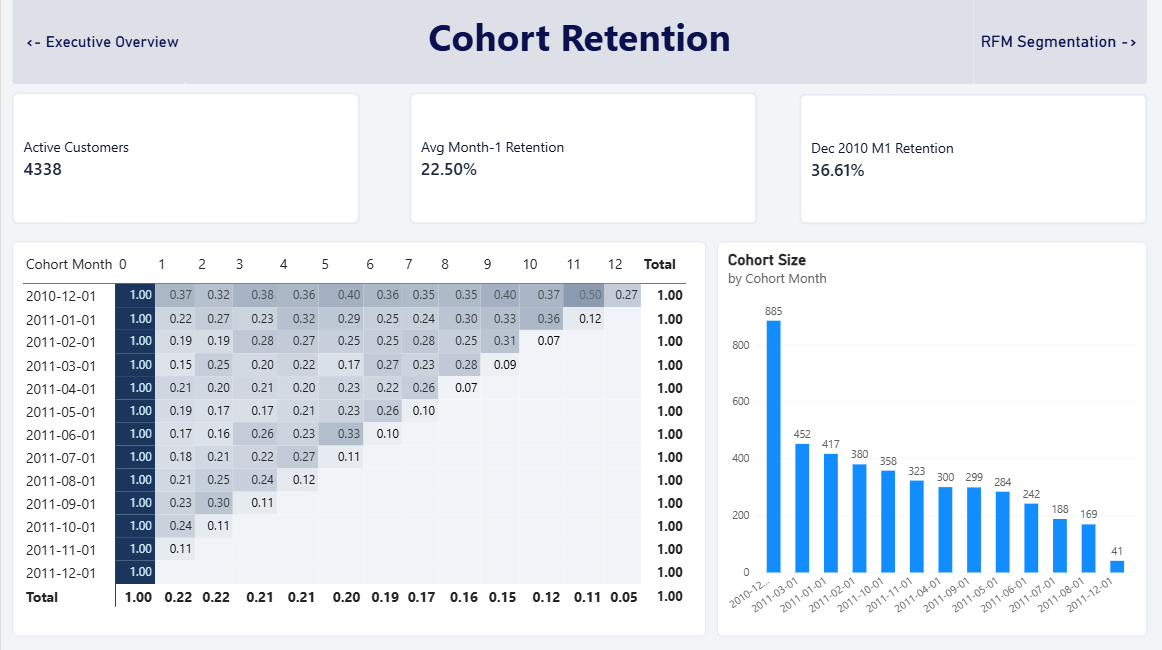

Layout of this report page (visuals, bound fields, positions):
{"tool":"powerbi","page":{"name":"Cohort Retention","canvas":[1920,1080],"ordinal":1},"visuals":[{"type":"cardVisual","fields":{"Data":["measures (2).Active Customers"]},"box":[18.5,154.4,572.2,216.1],"z":0},{"type":"cardVisual","fields":{"Data":["measures (2).Month 1 Avg Retention"]},"box":[673.1,154.4,572.2,216.1],"z":1000},{"type":"cardVisual","fields":{"Data":["measures (2).Dec 2010 M1 Retention"]},"box":[1315.3,156.4,572.2,214.1],"z":2000},{"type":"pivotTable","fields":{"Columns":["rfm_cohort_project v_clean_retail_2011.Cohort Index"],"Rows":["rfm_cohort_project v_clean_retail_2011.Cohort Month"],"Values":["measures (2).Retention Rate %"]},"box":[18.5,399.3,1142.4,650.4],"z":3000},{"type":"clusteredColumnChart","fields":{"Category":["rfm_cohort_project v_clean_retail_2011.Cohort Month"],"Y":["measures (2).Cohort Size"]},"box":[1179.4,399.3,708.1,650.4],"z":4000},{"type":"actionButton","title":"Cohort Retention","box":[304.6,0,1296.7,140],"z":4001},{"type":"actionButton","title":"<- Executive Overview","box":[18.5,0,286.1,140],"z":4002},{"type":"actionButton","title":"RFM Segmentation ->","box":[1601.4,0,286.1,140],"z":4003}]}

Visuals, with their boxes in screenshot pixels (x1, y1, x2, y2), scaled from the page's 1920x1080 canvas onto the 1162x650 screenshot:
cardVisual - measures (2).Active Customers: crop(11, 93, 357, 223)
cardVisual - measures (2).Month 1 Avg Retention: crop(407, 93, 754, 223)
cardVisual - measures (2).Dec 2010 M1 Retention: crop(796, 94, 1142, 223)
pivotTable - rfm_cohort_project v_clean_retail_2011.Cohort Index x rfm_cohort_project v_clean_retail_2011.Cohort Month: crop(11, 240, 703, 632)
clusteredColumnChart - rfm_cohort_project v_clean_retail_2011.Cohort Month x measures (2).Cohort Size: crop(714, 240, 1142, 632)
"Cohort Retention" actionButton: crop(184, 0, 969, 84)
"<- Executive Overview" actionButton: crop(11, 0, 184, 84)
"RFM Segmentation ->" actionButton: crop(969, 0, 1142, 84)
